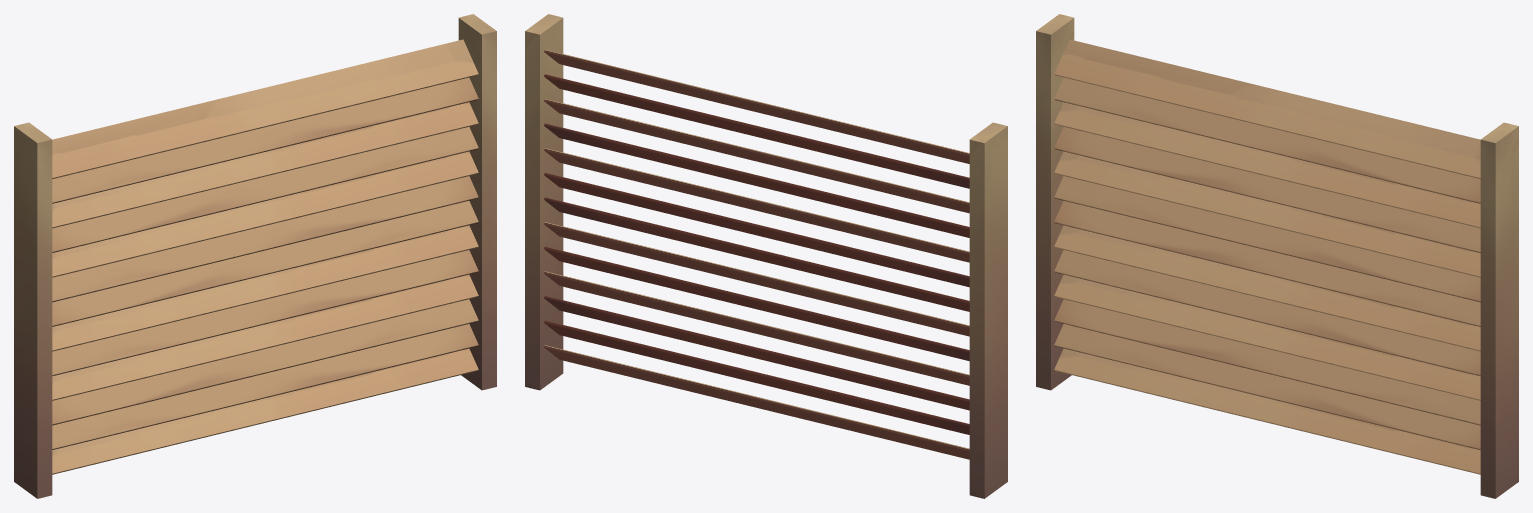
File: divider.fbx
3 renders of one model, left to right at view 1: azimuth 30°, elevation 25°; view 2: azimuth 150°, elevation 25°; view 3: azimuth 330°, elevation 25°, orthographic.
Parts seen in each view (by area): view 1: divider; view 2: divider; view 3: divider.
Part boxes in pixels (x1,y1,x2,y2): divider: [14, 14, 496, 498]; divider: [525, 14, 1007, 498]; divider: [1036, 14, 1518, 498].
Size of the model in its own units: 273 by 202 by 24.08.
